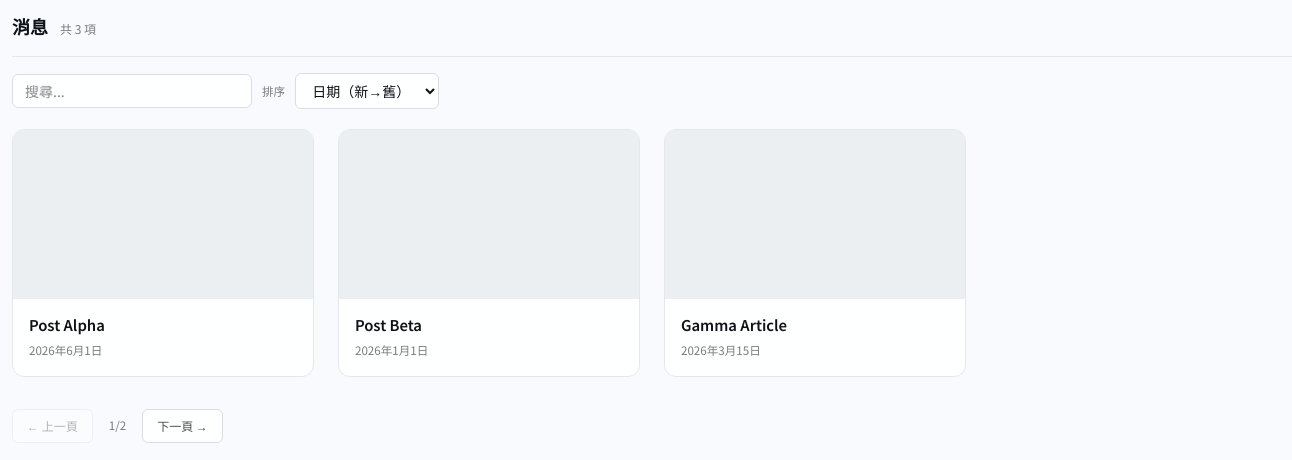
Test: ContentPage › navigates to article view on card click
This screenshot has width=1292, height=460.
Click the heading "Post Alpha": point(67, 324) [29,314,105,335]
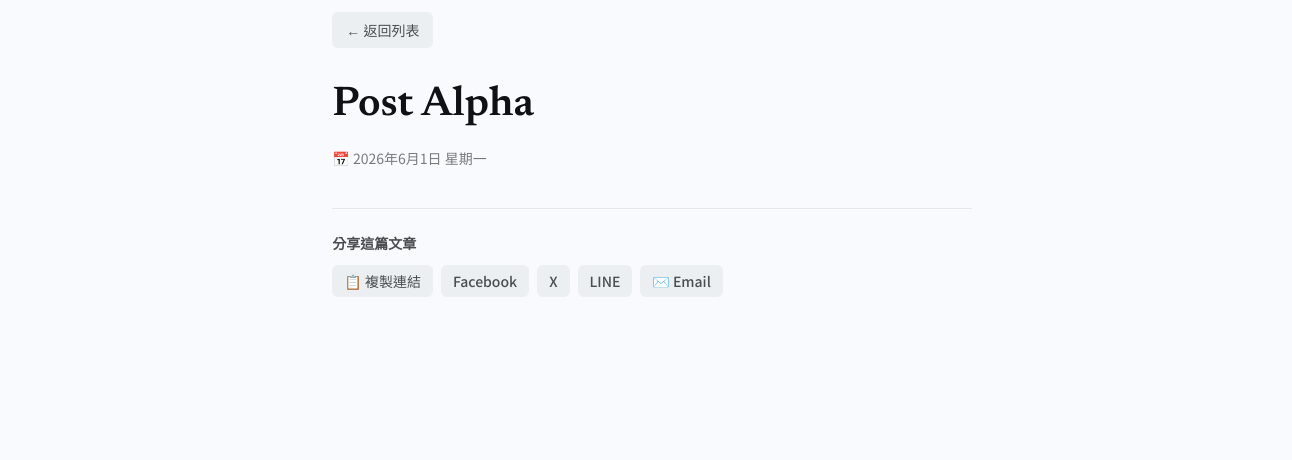
Result: the text "1/2" is gone
